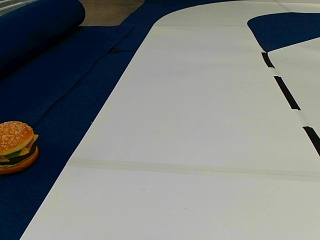burger: (0, 119, 39, 173)
